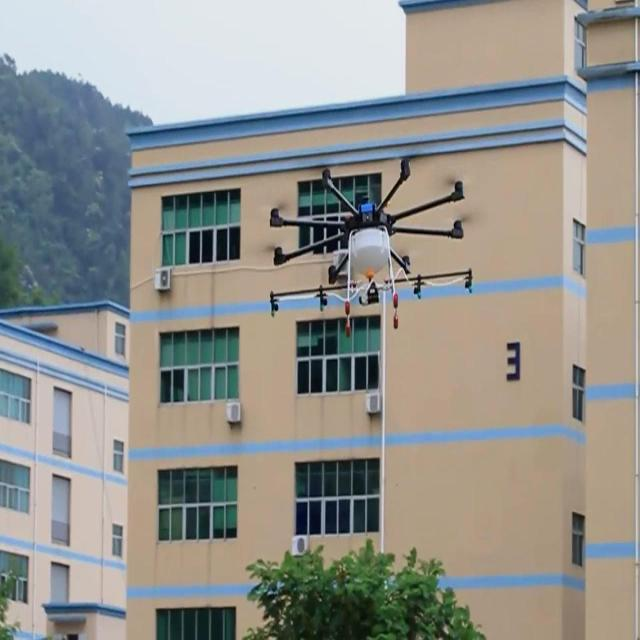drone: (269, 150, 475, 342)
